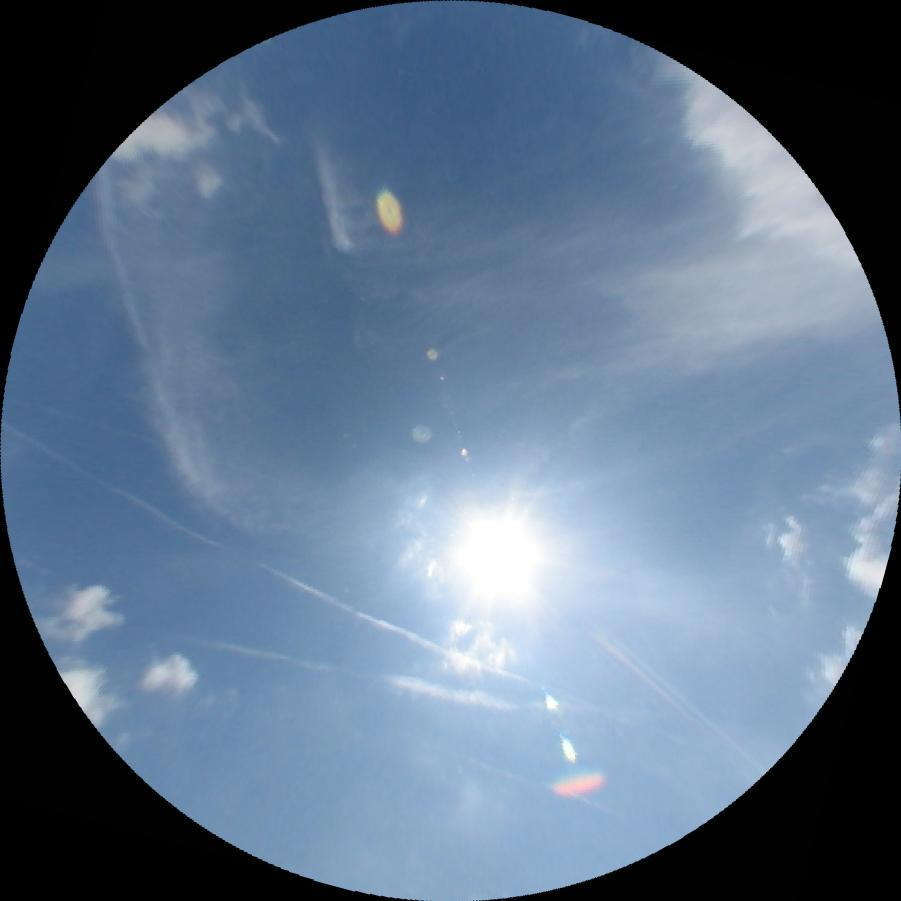contrail veryold: (0, 421, 526, 697), (192, 630, 525, 712)
parasite: (5, 392, 284, 484)
sun: (457, 519, 536, 595)
unknow: (457, 751, 594, 806)
